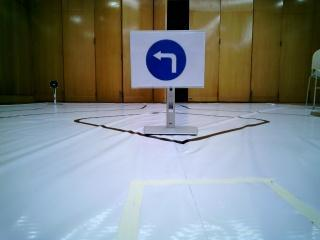left: (136, 39, 200, 85)
